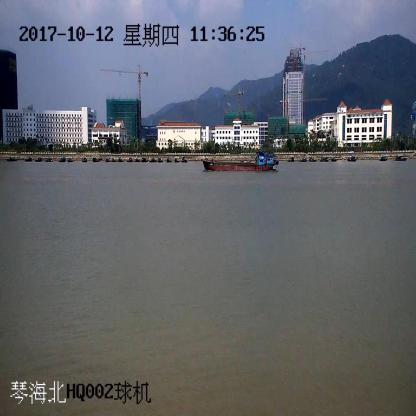Bulk Carrier: (202, 148, 278, 172)
